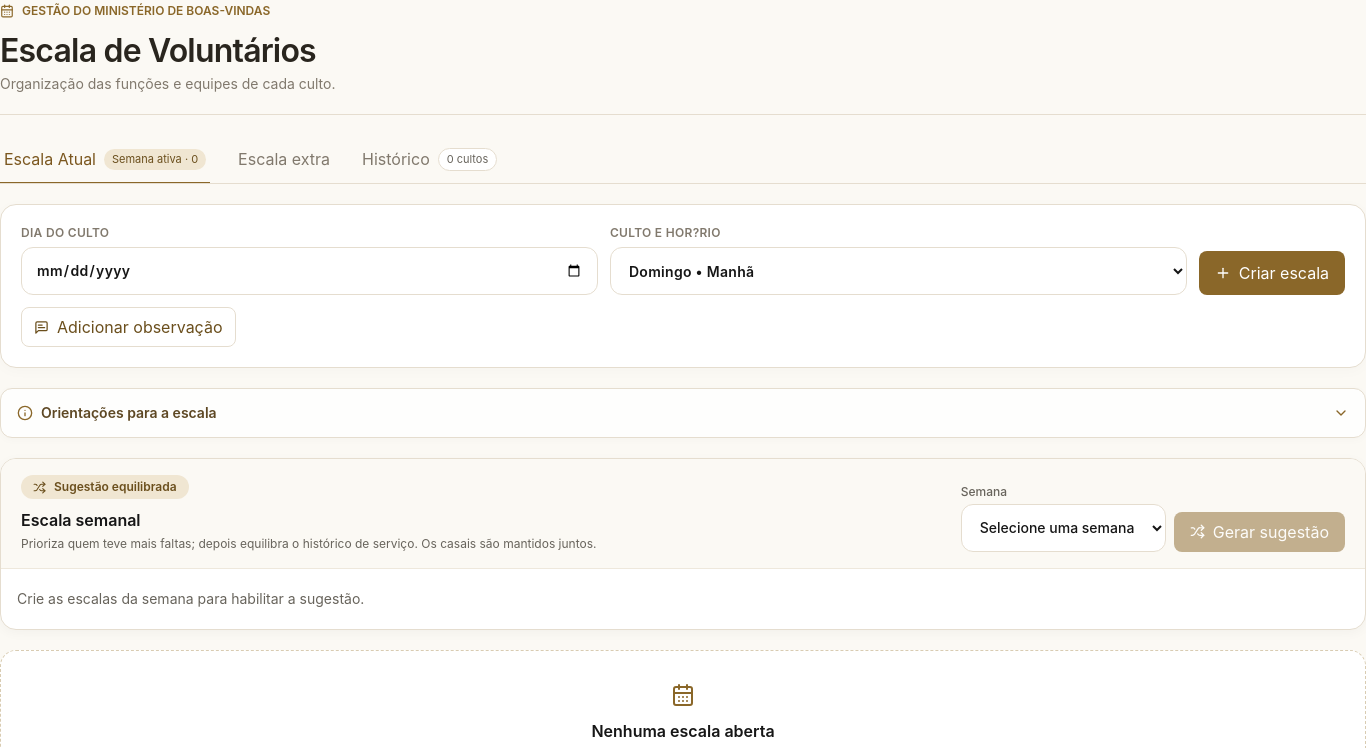
Scenario: create a schedule with volunteers › validates the team, saves all assignments together and returns to the normal schedule
Expected: the heading "Nenhuma escala aberta" is shown, [591,721,774,741]
Type "2099-12-12" into the date field labelled "Dia do culto".
click(309, 271); type("2099-12-12")  # box [21,247,598,295]
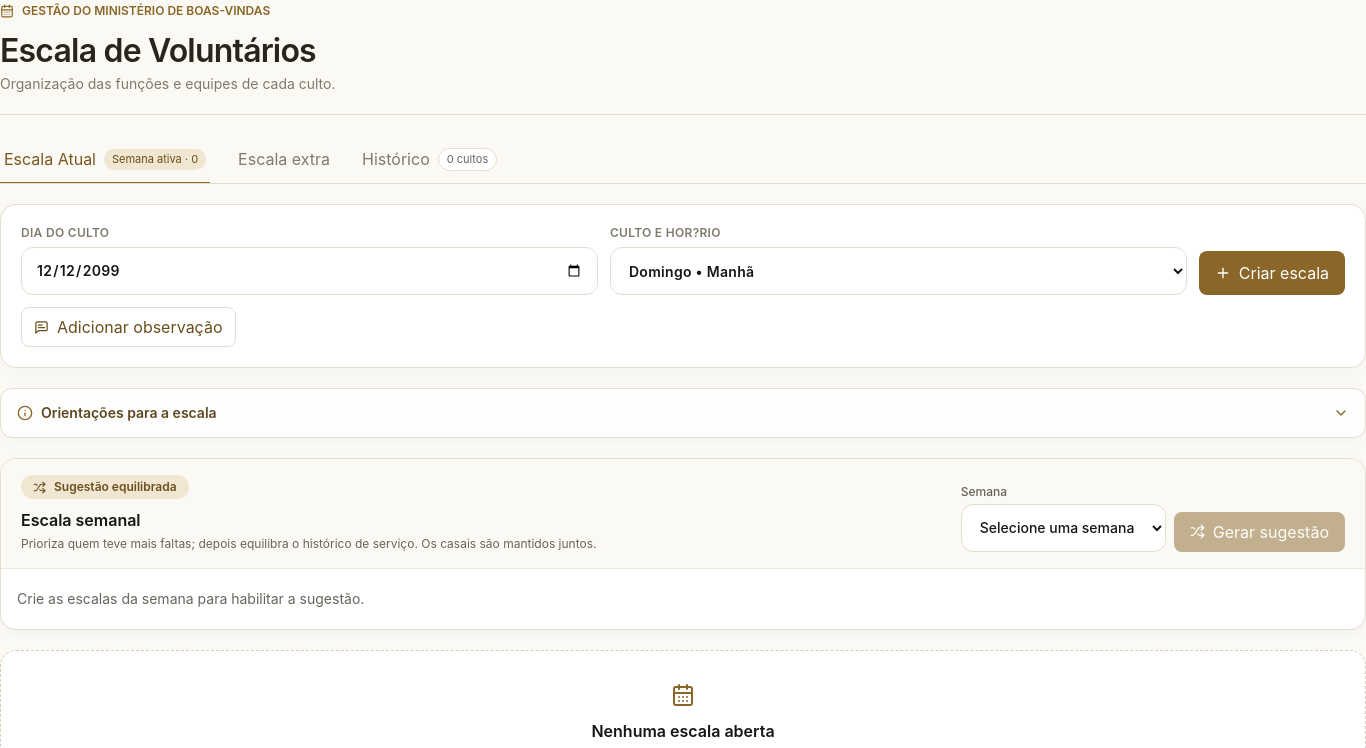
Click the button "Criar escala".
click(1272, 273)  # box [1199,251,1345,295]
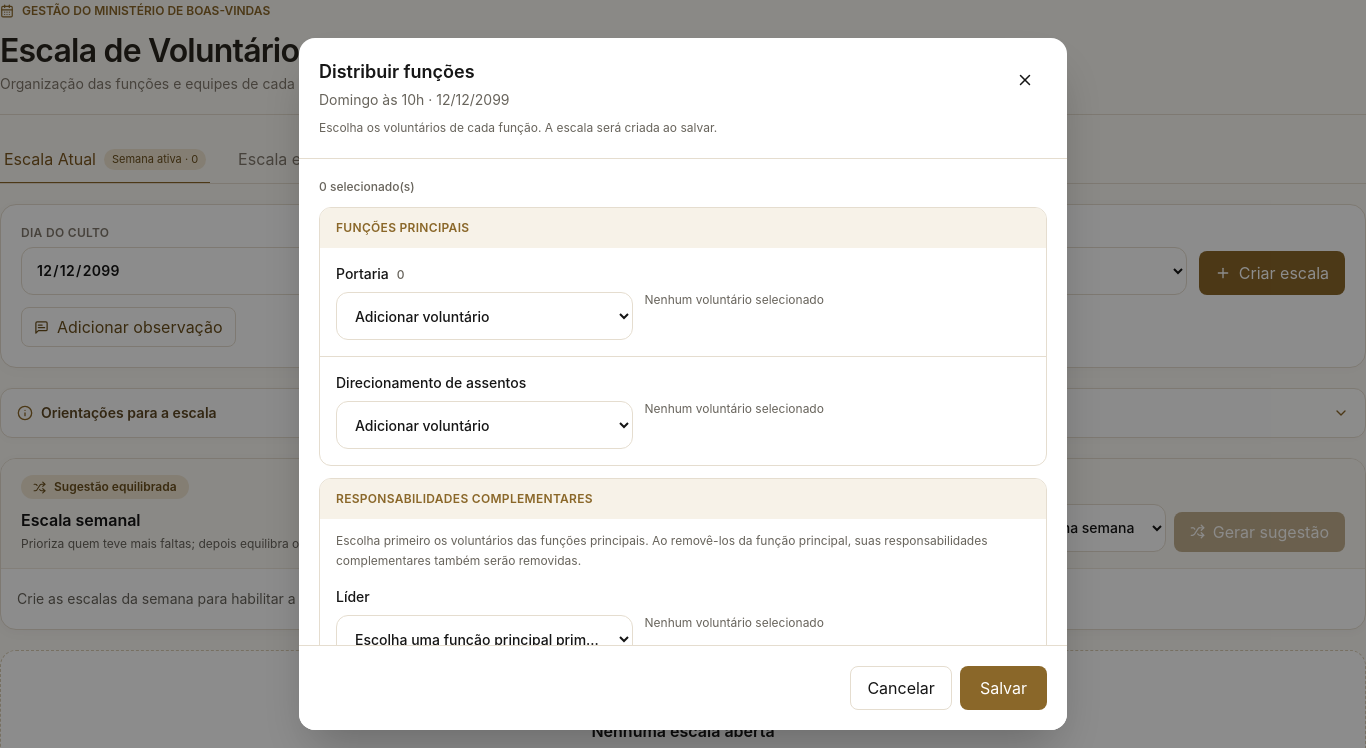
Click the button "Salvar".
click(1003, 688)  # box [960,666,1047,710]
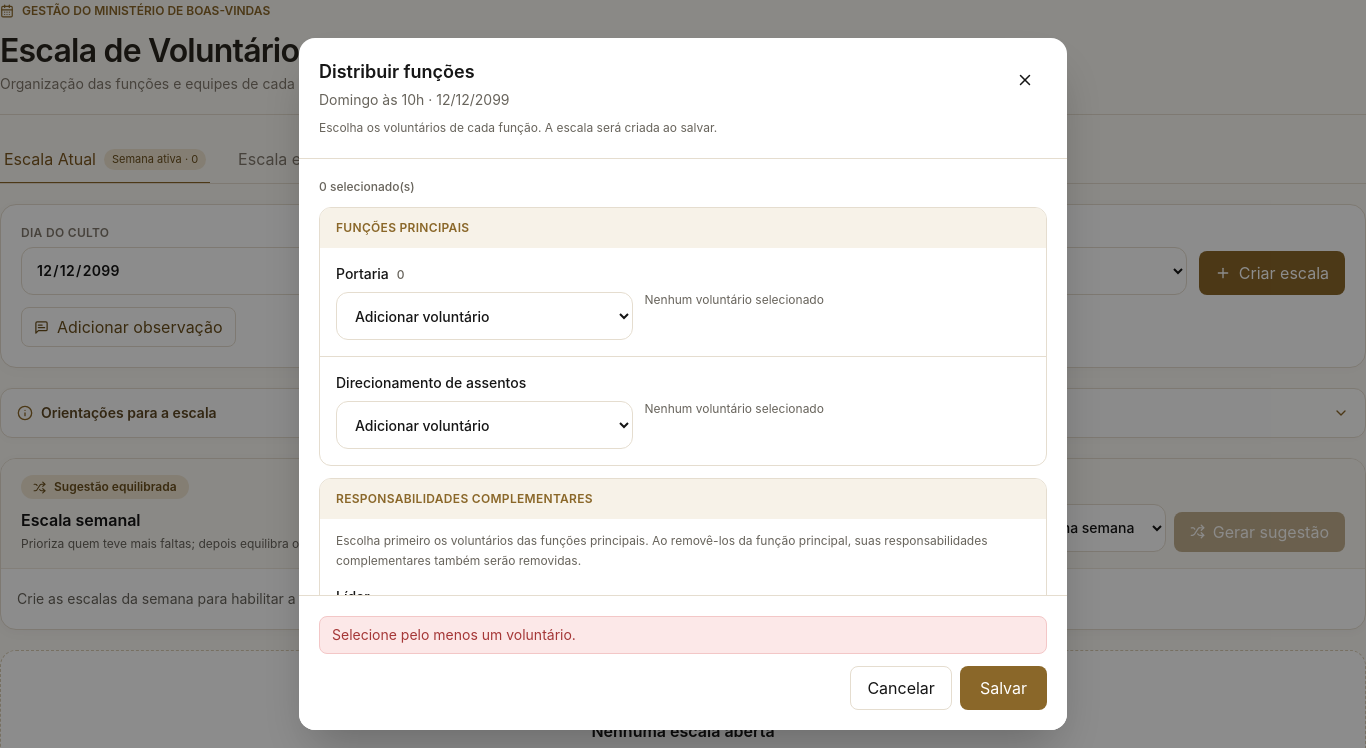
Expected: the message shows "Selecione pelo menos um", [332,626,576,643]
Select "Bruna" in the dropdown named "Selecionar voluntário para Portaria" at (484, 316), box [336,292,632,340]
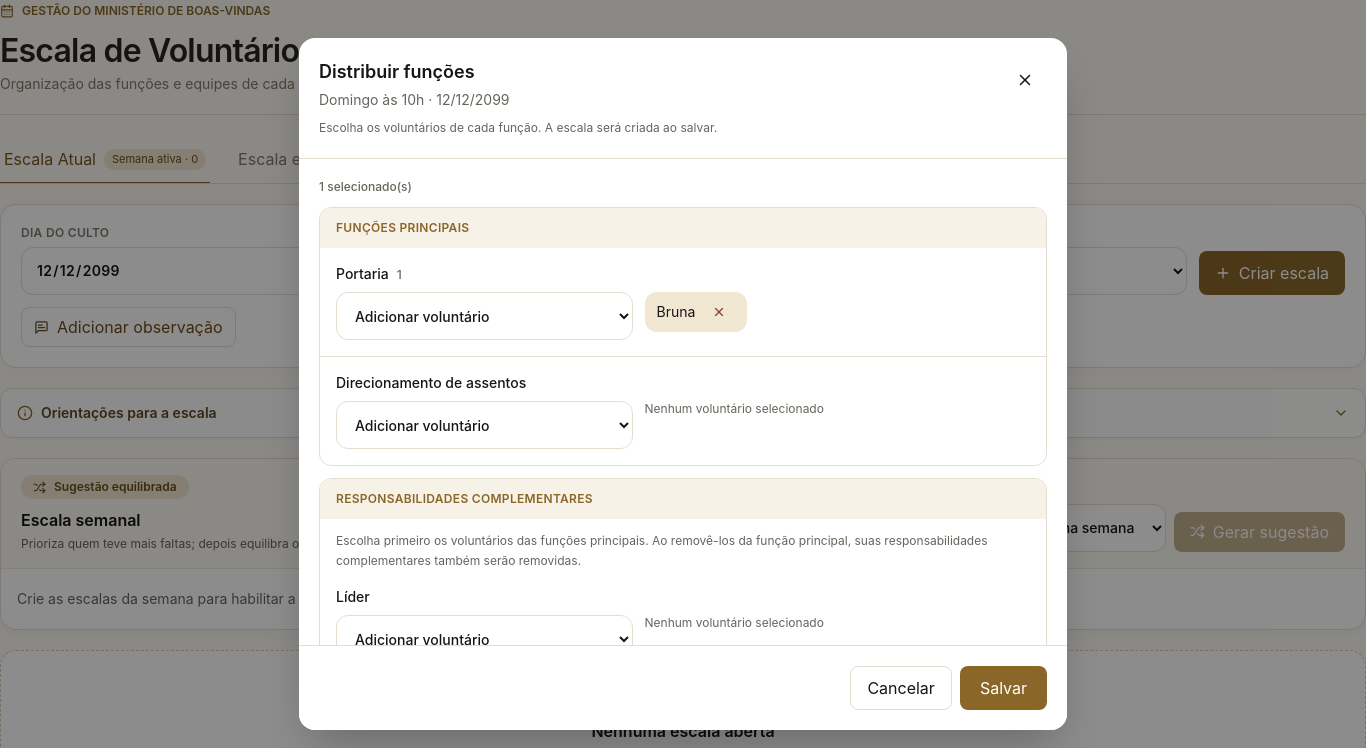
Select "Bruna" in the dropdown named "Selecionar voluntário para Líder" at (484, 639), box [336,615,632,663]
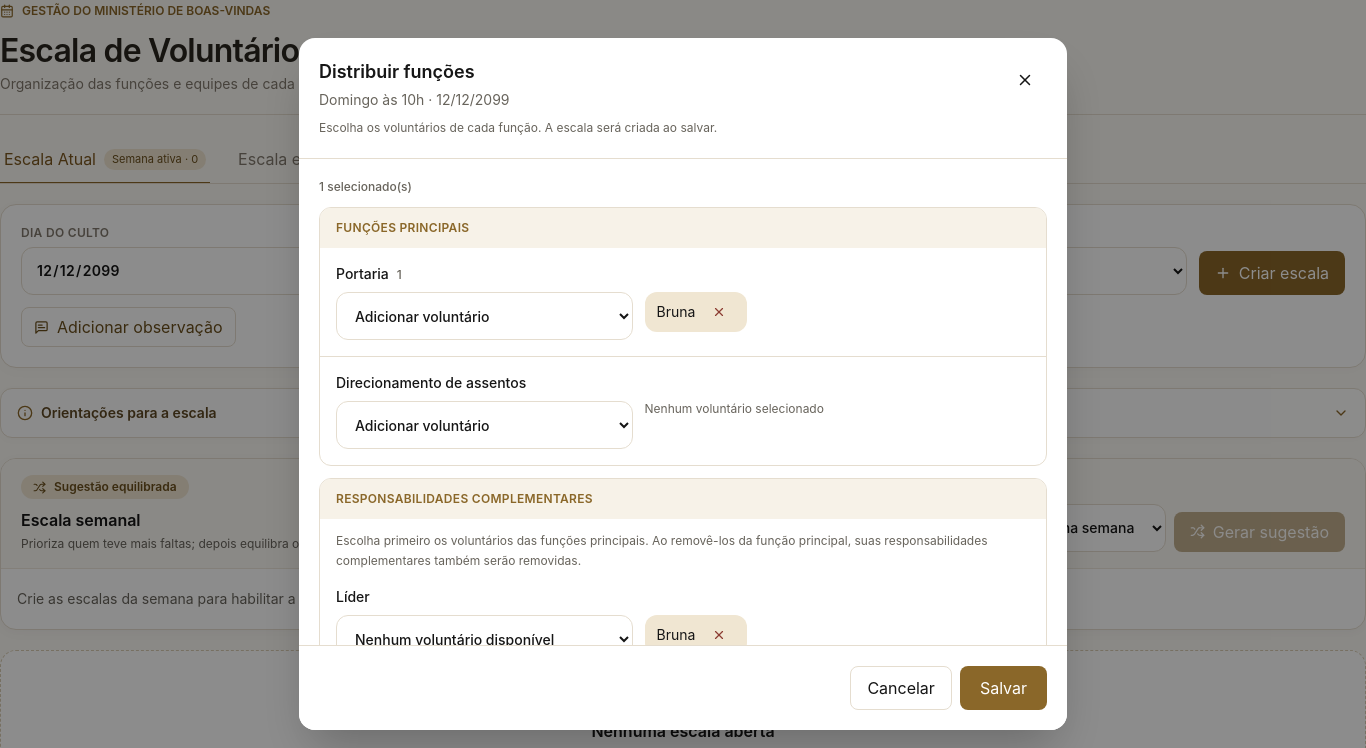
Click the button "Salvar".
click(1003, 688)  # box [960,666,1047,710]
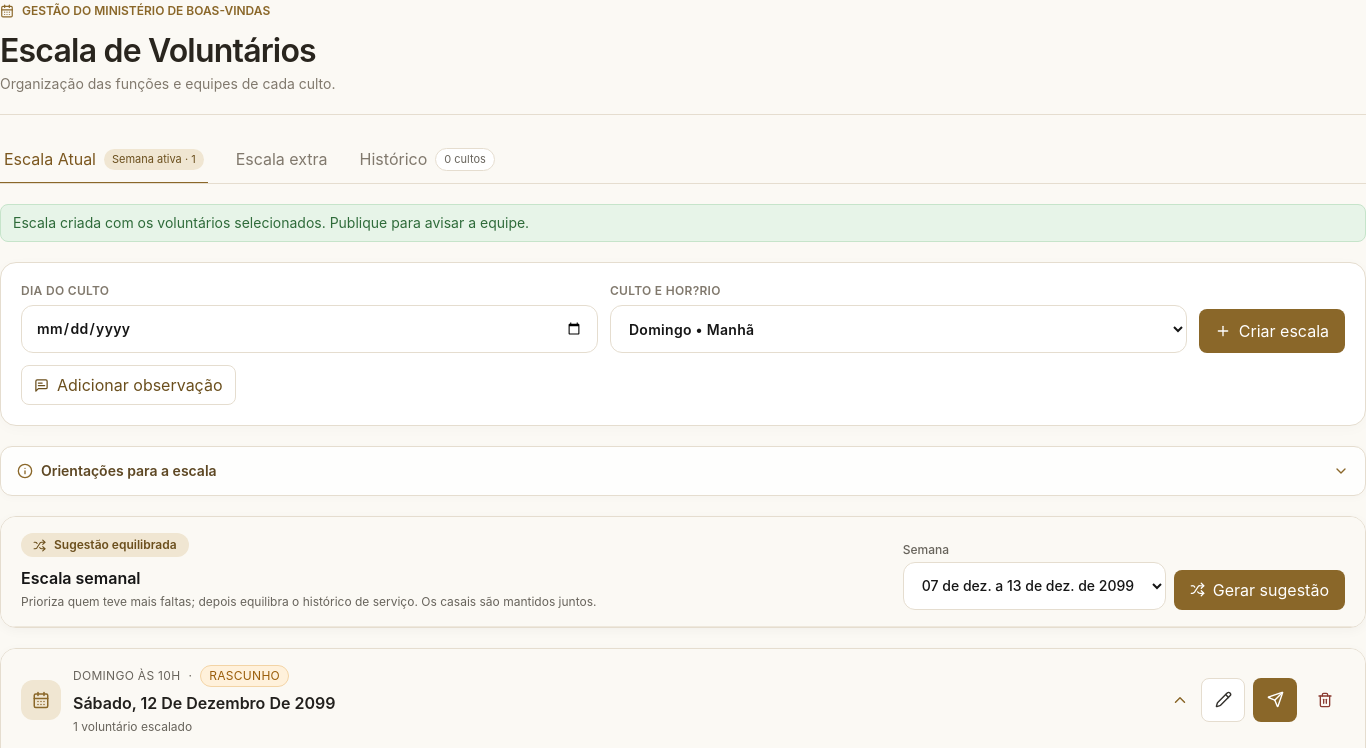
Expected: the text "Escala criada com os voluntários selecionados. Publique para avisar a equipe." is shown, [0,204,1365,242]
Expected: the dialog is gone
Expected: the button named "Editar escala" is shown, [1201,678,1245,722]
